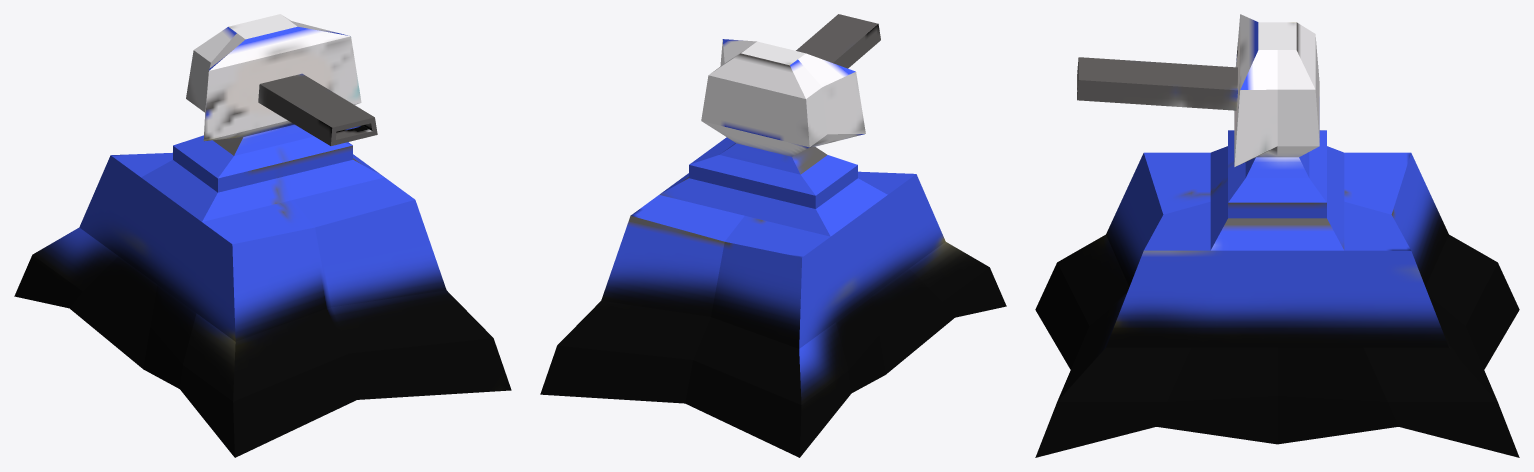
File: Supply_Depot.glb
3 renders of one model, left to right at view 1: azimuth 30°, elevation 25°; view 2: azimuth 150°, elevation 25°; view 3: azimuth 270°, elevation 25°, orthographic. The views are drawn at different scales.
Visible parts, largest first — view 1: Cube; view 2: Cube; view 3: Cube.
Boxes of the visible parts, x1=… form: Cube: x1=14, y1=14, x2=511, y2=457; Cube: x1=540, y1=14, x2=1006, y2=457; Cube: x1=1035, y1=14, x2=1519, y2=457.
Bounding box in the file's own units: 3.56 × 3.89 × 4.91.
Materials: 1 (1 with a texture image).
